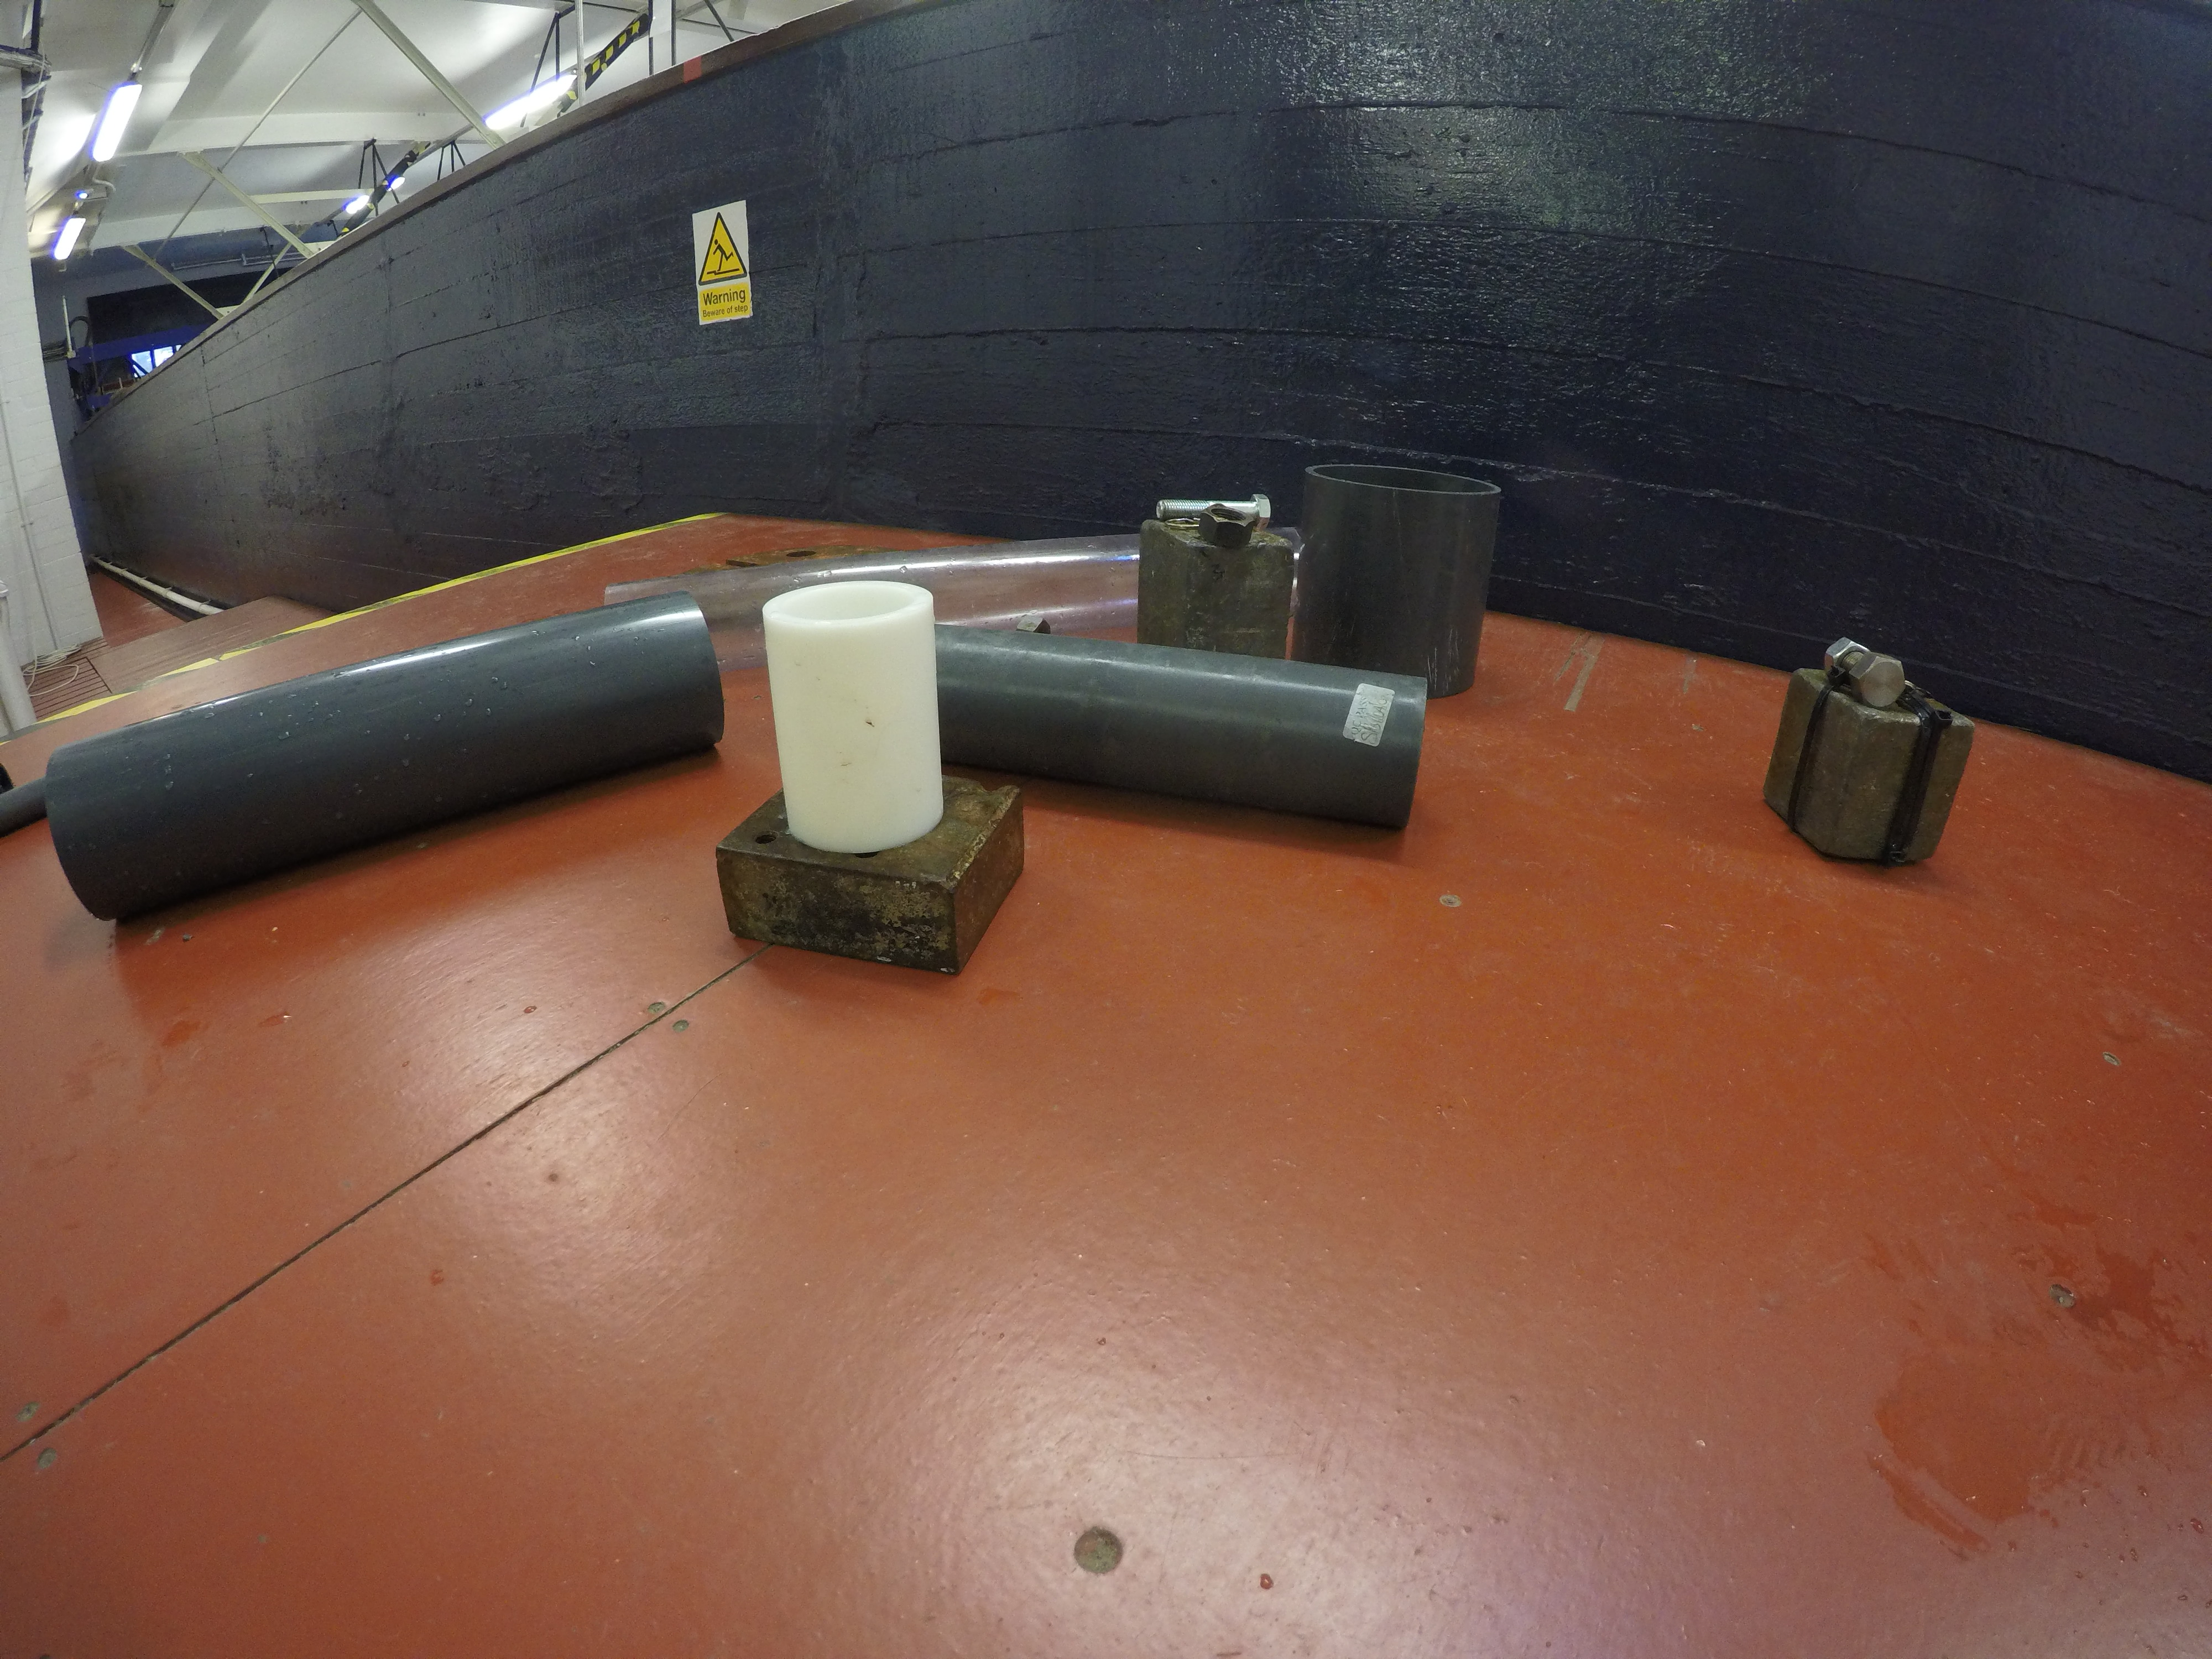bolt: (1824, 629, 1907, 708), (1155, 491, 1271, 528)
flange: (685, 545, 897, 575)
led_block: (714, 774, 1026, 976), (1764, 667, 1977, 866), (1136, 514, 1296, 659)
nut: (1198, 502, 1254, 547), (1824, 636, 1871, 671), (1014, 613, 1050, 633)
pipe: (44, 589, 726, 922), (603, 526, 1306, 671), (935, 624, 1428, 830), (1291, 462, 1503, 697), (761, 580, 944, 852)
